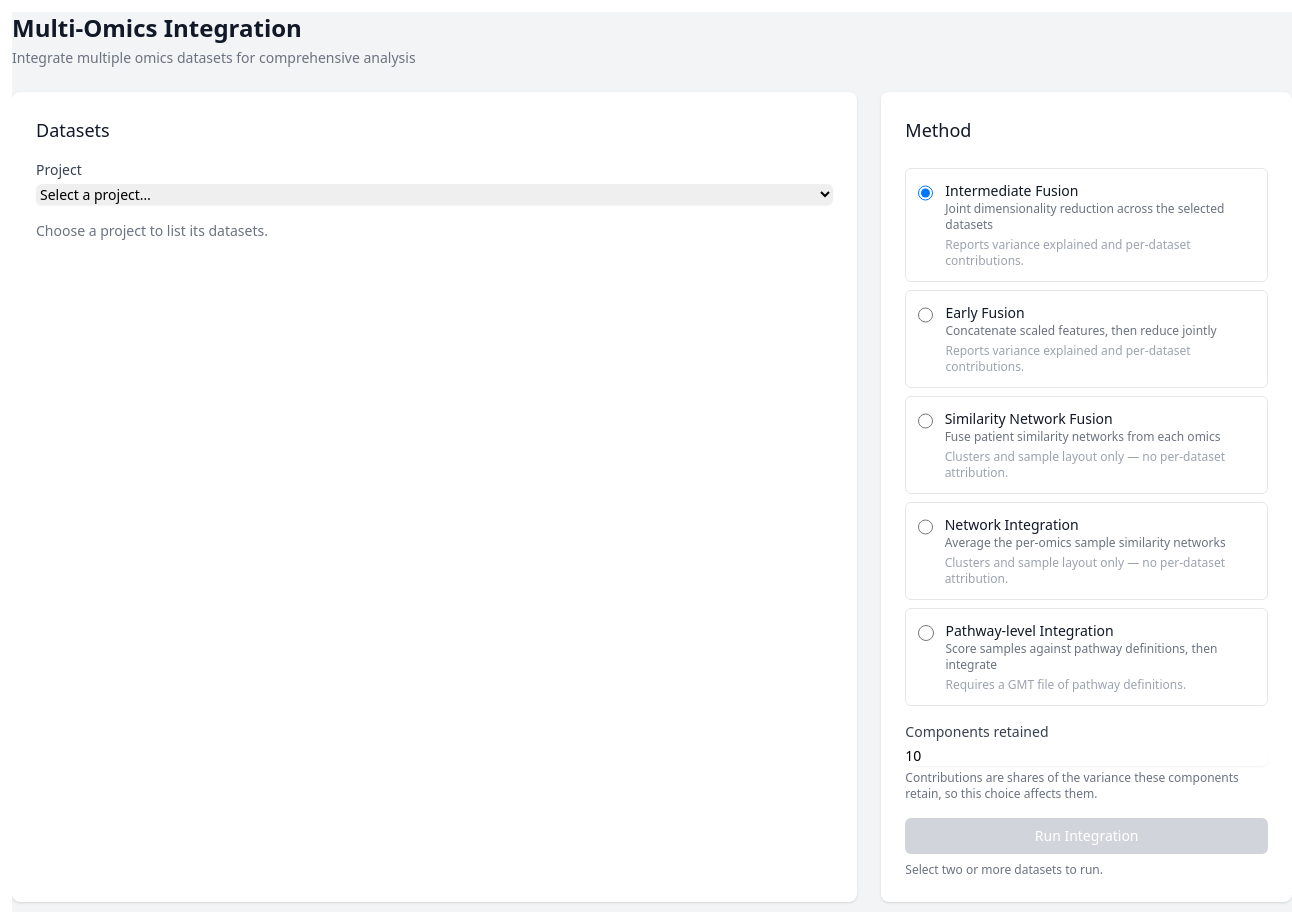
Scenario: Integration page › cannot run until at least two datasets are selected
The width and height of the screenshot is (1292, 912).
Check: the button "Run Integration" is disabled, box [905,818,1268,854]
Select "Cohort A" in the dropdown labelled "Project": (435, 194) [36,184,833,205]
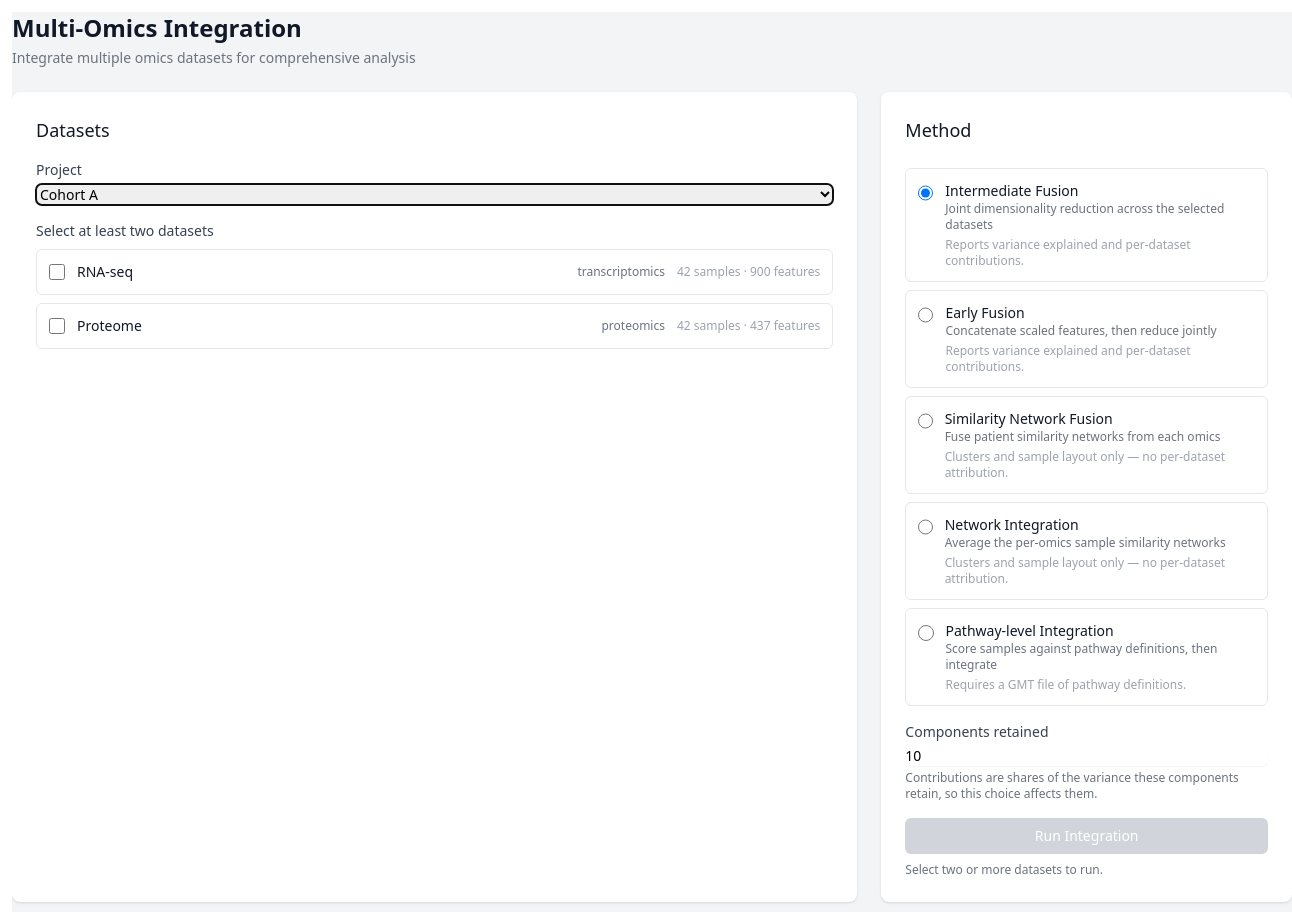
Click the checkbox labelled "RNA-seq transcriptomics 42 samples · 900 features": click(57, 272) [49,264,65,280]
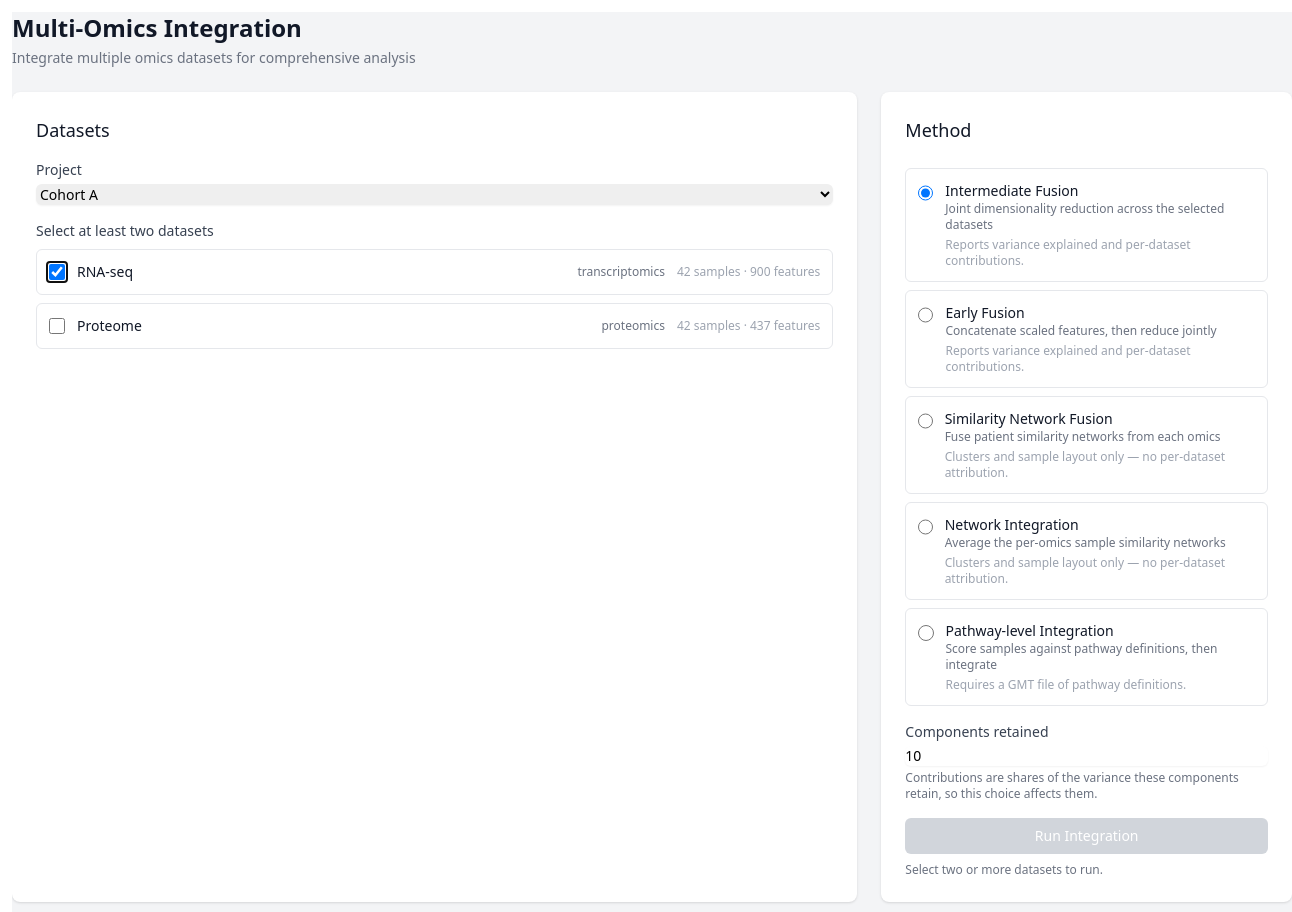
Check: the button "Run Integration" is disabled, box [905,818,1268,854]
Click the checkbox labelled "Proteome proteomics 42 samples · 437 features": click(57, 326) [49,318,65,334]
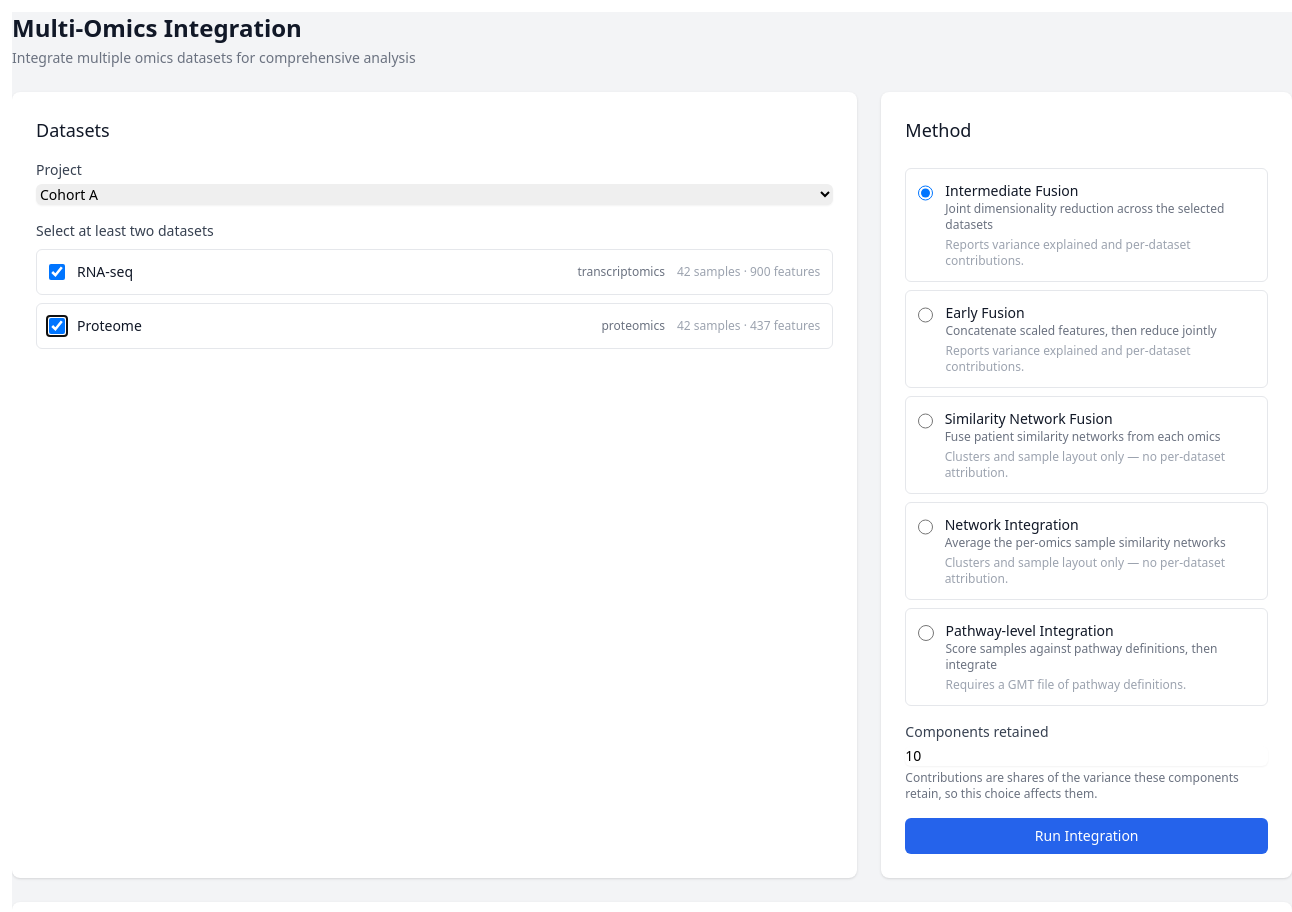
Check: the button "Run Integration" is enabled, box [905,818,1268,854]
